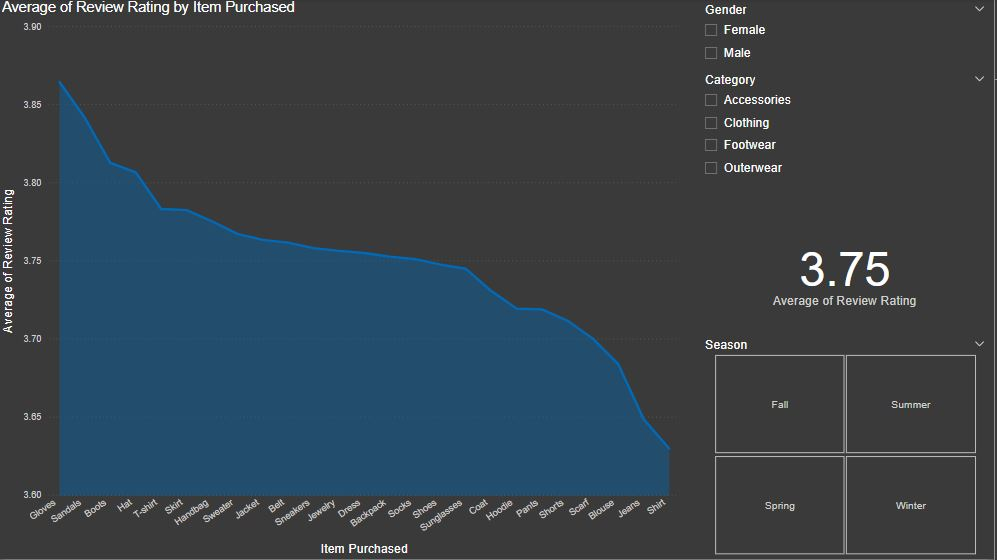

The page's visual inventory and layout, read from the dashboard file:
{"tool":"powerbi","page":{"name":"Average Review","canvas":[1280,720],"ordinal":4},"visuals":[{"type":"card","fields":{"Values":["Avg(shopping_trends.Review Rating)"]},"box":[895.3,270.6,384.7,159.4],"z":0},{"type":"areaChart","fields":{"Category":["shopping_trends.Item Purchased"],"Y":["Avg(shopping_trends.Review Rating)"]},"box":[0,0,880.6,720.2],"z":1000},{"type":"slicer","fields":{"Values":["shopping_trends.Category"]},"box":[895.3,90.5,384.7,158.4],"z":2000},{"type":"slicer","fields":{"Values":["shopping_trends.Gender"]},"box":[895.3,0,384.7,90.5],"z":3000},{"type":"slicer","fields":{"Values":["shopping_trends.Season"]},"box":[895.3,429.9,384.7,290.2],"z":4000}]}

Visuals, with their boxes in screenshot pixels (x1, y1, x2, y2), scaled from the page's 1280x720 canvas onto the 997x560 screenshot:
card - Avg(shopping_trends.Review Rating): bbox=[697, 210, 996, 334]
areaChart - shopping_trends.Item Purchased x Avg(shopping_trends.Review Rating): bbox=[0, 0, 686, 559]
slicer - shopping_trends.Category: bbox=[697, 70, 996, 194]
slicer - shopping_trends.Gender: bbox=[697, 0, 996, 70]
slicer - shopping_trends.Season: bbox=[697, 334, 996, 559]
